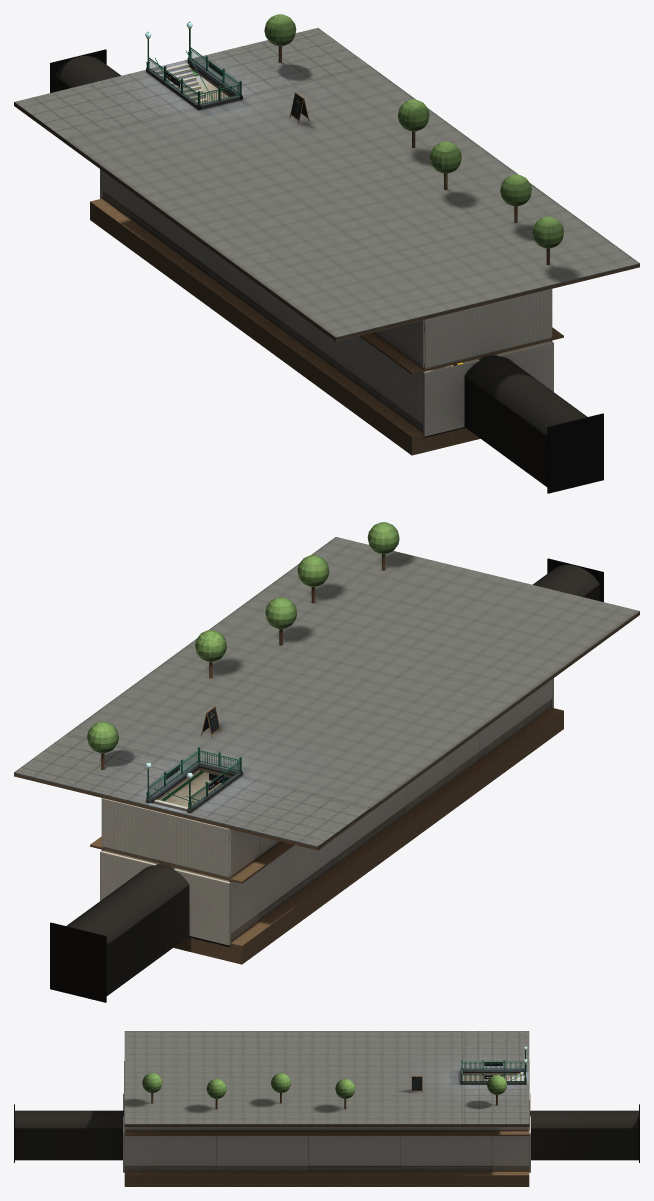
The model's file is station-dollhouse.glb.
3 views of the same model, one above another, from view 1: azimuth 30°, elevation 25°; view 2: azimuth 150°, elevation 25°; view 3: azimuth 270°, elevation 25° (orthographic). The views are drawn at different scales.
Visible parts, largest first — view 1: main_street_0, main_street_2, fourth_wall_platform_300_tile, fourth_wall_platform_0, main_ground_1, fourth_wall_mezzanine_0, main_street_1, fourth_wall_platform_2, main_platform_0, main_mezzanine_0, fourth_wall_mezzanine_300_tile, main_platform_1 (+1 smaller); view 2: main_street_0, main_street_2, fourth_wall_platform_300_tile, fourth_wall_platform_2, main_ground_1, fourth_wall_mezzanine_2, main_street_1, main_mezzanine_1, fourth_wall_platform_0, fourth_wall_mezzanine_300_tile, main_platform_0, main_platform_1; view 3: main_street_0, main_platform_300_tile, main_ground_1, main_street_2, fourth_wall_platform_0, fourth_wall_platform_2, main_mezzanine_1, main_mezzanine_300_tile, main_platform_0, main_platform_1, main_street_1, main_mezzanine_0.
Part boxes in pixels (left/top/right/bottom): main_street_0: left=66, top=66, right=639, bottom=341; main_street_2: left=14, top=14, right=370, bottom=144; fourth_wall_platform_300_tile: left=100, top=169, right=553, bottom=436; fourth_wall_platform_0: left=464, top=355, right=603, bottom=493; main_ground_1: left=90, top=198, right=480, bottom=455; fourth_wall_mezzanine_0: left=424, top=289, right=551, bottom=367; main_street_1: left=173, top=68, right=429, bottom=147; fourth_wall_platform_2: left=50, top=49, right=121, bottom=92; main_platform_0: left=278, top=319, right=551, bottom=437; main_mezzanine_0: left=359, top=327, right=563, bottom=374; fourth_wall_mezzanine_300_tile: left=374, top=320, right=424, bottom=367; main_platform_1: left=132, top=212, right=278, bottom=326; main_street_0: left=67, top=522, right=639, bottom=811; main_street_2: left=14, top=721, right=370, bottom=850; fourth_wall_platform_300_tile: left=100, top=678, right=553, bottom=945; fourth_wall_platform_2: left=50, top=864, right=189, bottom=1002; main_ground_1: left=173, top=707, right=563, bottom=964; fourth_wall_mezzanine_2: left=102, top=798, right=229, bottom=877; main_street_1: left=175, top=630, right=242, bottom=787; main_mezzanine_1: left=90, top=772, right=294, bottom=883; fourth_wall_platform_0: left=532, top=558, right=603, bottom=601; fourth_wall_mezzanine_300_tile: left=229, top=829, right=279, bottom=876; main_platform_0: left=405, top=699, right=551, bottom=813; main_platform_1: left=258, top=807, right=404, bottom=921; main_street_0: left=124, top=1031, right=462, bottom=1126; main_platform_300_tile: left=124, top=1136, right=529, bottom=1165; main_ground_1: left=124, top=1171, right=529, bottom=1186; main_street_2: left=462, top=1031, right=529, bottom=1126; fourth_wall_platform_0: left=14, top=1104, right=123, bottom=1162; fourth_wall_platform_2: left=530, top=1104, right=639, bottom=1162; main_mezzanine_1: left=201, top=1130, right=529, bottom=1135; main_mezzanine_300_tile: left=124, top=1127, right=529, bottom=1129; main_platform_0: left=124, top=1166, right=308, bottom=1171; main_platform_1: left=308, top=1166, right=492, bottom=1171; main_street_1: left=335, top=1060, right=491, bottom=1109; main_mezzanine_0: left=124, top=1130, right=201, bottom=1135.
Bounding box in the file's own units: 24.01 × 13.8 × 68.1.
Materials: 28 (28 with a texture image).
